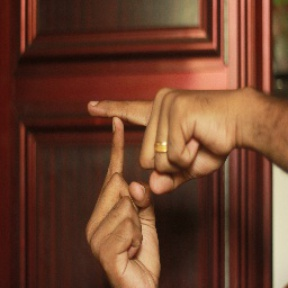T: (63, 81, 182, 230)
